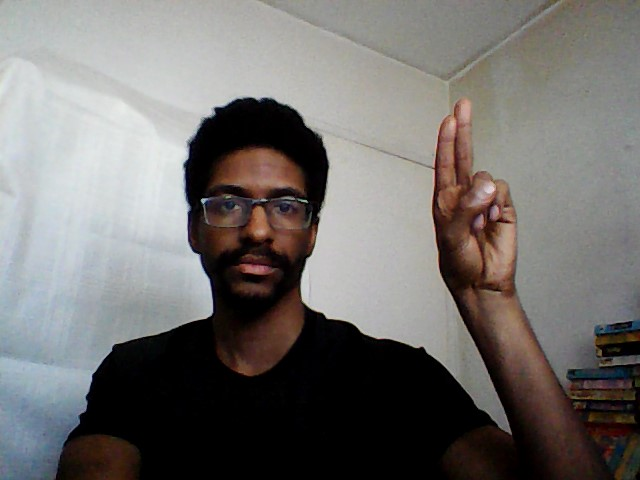u: (430, 92, 524, 298)
